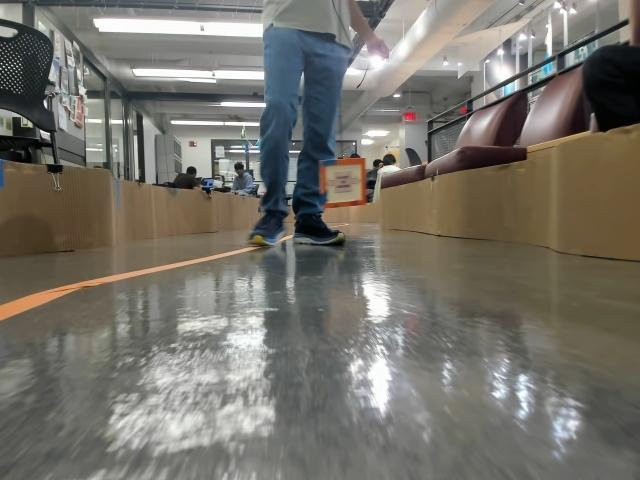Do Not Go Around: (326, 172, 358, 193)
